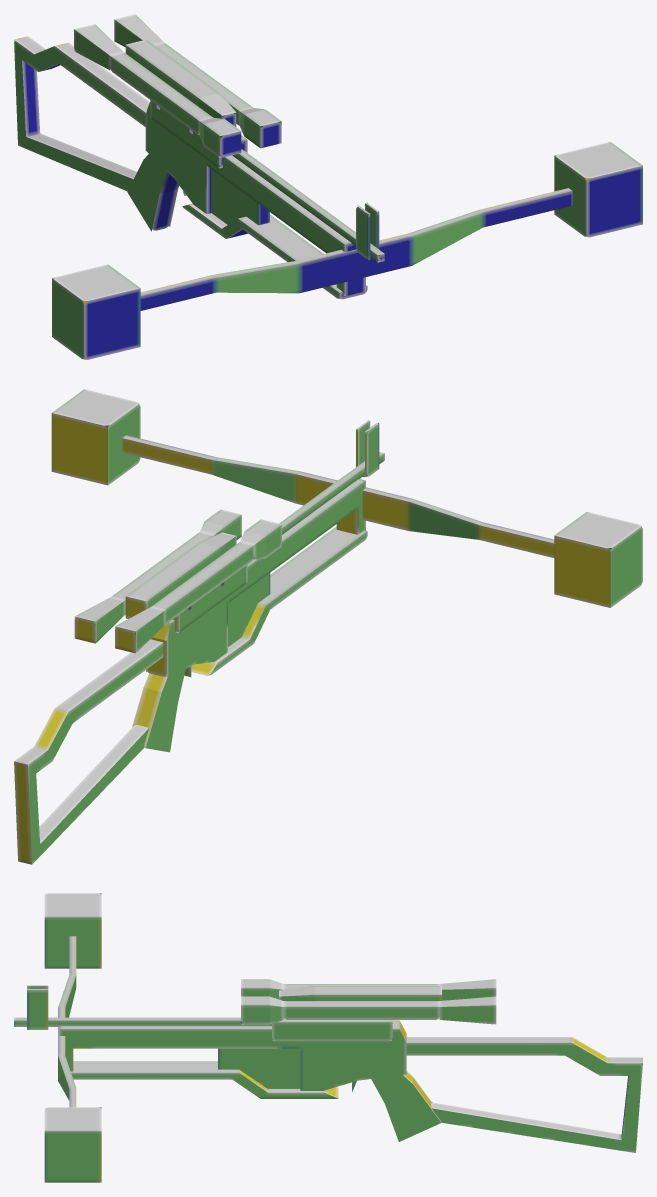
The model's file is bowcasterNEWmodel.obj.
3 renders of one model, top to bottom at view 1: azimuth 30°, elevation 25°; view 2: azimuth 150°, elevation 25°; view 3: azimuth 270°, elevation 25°, orthographic. The views are drawn at different scales.
Visible parts, largest first — view 1: weightBind_Cube.007, stock_Cube.008, body_Cube.003, weight_right_Cube.014, weight_Left_Cube.001, scopeRight_Cube.015, scopeLeft_Cube.011, cartridge_Cube.012, handrail_Cube.002, handle_Cube.009, barrell_Cube.005, panel_Cube.004 (+2 smaller); view 2: stock_Cube.008, weightBind_Cube.007, body_Cube.003, weight_right_Cube.014, weight_Left_Cube.001, scopeRight_Cube.015, handrail_Cube.002, scopeLeft_Cube.011, cartridge_Cube.012, handle_Cube.009, panel_Cube.004, rail_Cube.010 (+2 smaller); view 3: body_Cube.003, stock_Cube.008, scopeLeft_Cube.011, weight_Left_Cube.001, weight_right_Cube.014, handrail_Cube.002, panel_Cube.004, handle_Cube.009, rail_Cube.010, cartridge_Cube.012, barrell_Cube.005, scopeRight_Cube.015 (+2 smaller).
Part boxes in pixels (bbox=[...]): weightBind_Cube.007: bbox=[140, 188, 572, 310]; stock_Cube.008: bbox=[14, 36, 149, 191]; body_Cube.003: bbox=[145, 102, 365, 295]; weight_right_Cube.014: bbox=[52, 264, 140, 359]; weight_Left_Cube.001: bbox=[554, 142, 642, 237]; scopeRight_Cube.015: bbox=[74, 24, 241, 158]; scopeLeft_Cube.011: bbox=[114, 14, 281, 148]; cartridge_Cube.012: bbox=[125, 39, 236, 126]; handrail_Cube.002: bbox=[182, 203, 367, 299]; handle_Cube.009: bbox=[127, 154, 179, 231]; barrell_Cube.005: bbox=[232, 149, 384, 262]; panel_Cube.004: bbox=[211, 169, 269, 225]; stock_Cube.008: bbox=[14, 639, 163, 864]; weightBind_Cube.007: bbox=[122, 435, 554, 557]; body_Cube.003: bbox=[146, 476, 365, 677]; weight_right_Cube.014: bbox=[554, 512, 642, 607]; weight_Left_Cube.001: bbox=[51, 389, 140, 485]; scopeRight_Cube.015: bbox=[115, 519, 281, 653]; handrail_Cube.002: bbox=[191, 526, 367, 675]; scopeLeft_Cube.011: bbox=[74, 509, 241, 643]; cartridge_Cube.012: bbox=[125, 532, 236, 618]; handle_Cube.009: bbox=[132, 669, 185, 752]; panel_Cube.004: bbox=[228, 573, 270, 646]; rail_Cube.010: bbox=[173, 565, 247, 632]; body_Cube.003: bbox=[59, 1020, 406, 1090]; stock_Cube.008: bbox=[406, 1037, 642, 1152]; scopeLeft_Cube.011: bbox=[241, 996, 496, 1024]; weight_Left_Cube.001: bbox=[44, 1107, 101, 1182]; weight_right_Cube.014: bbox=[44, 893, 101, 968]; handrail_Cube.002: bbox=[71, 1061, 338, 1098]; panel_Cube.004: bbox=[218, 1048, 300, 1088]; handle_Cube.009: bbox=[371, 1071, 441, 1141]; rail_Cube.010: bbox=[272, 1019, 392, 1041]; cartridge_Cube.012: bbox=[279, 986, 441, 1000]; barrell_Cube.005: bbox=[14, 1017, 271, 1026]; scopeRight_Cube.015: bbox=[241, 979, 496, 1000].
Bounding box in the file's own units: 0.7944 × 0.253 × 0.8873.
1 material, 1 textured.
